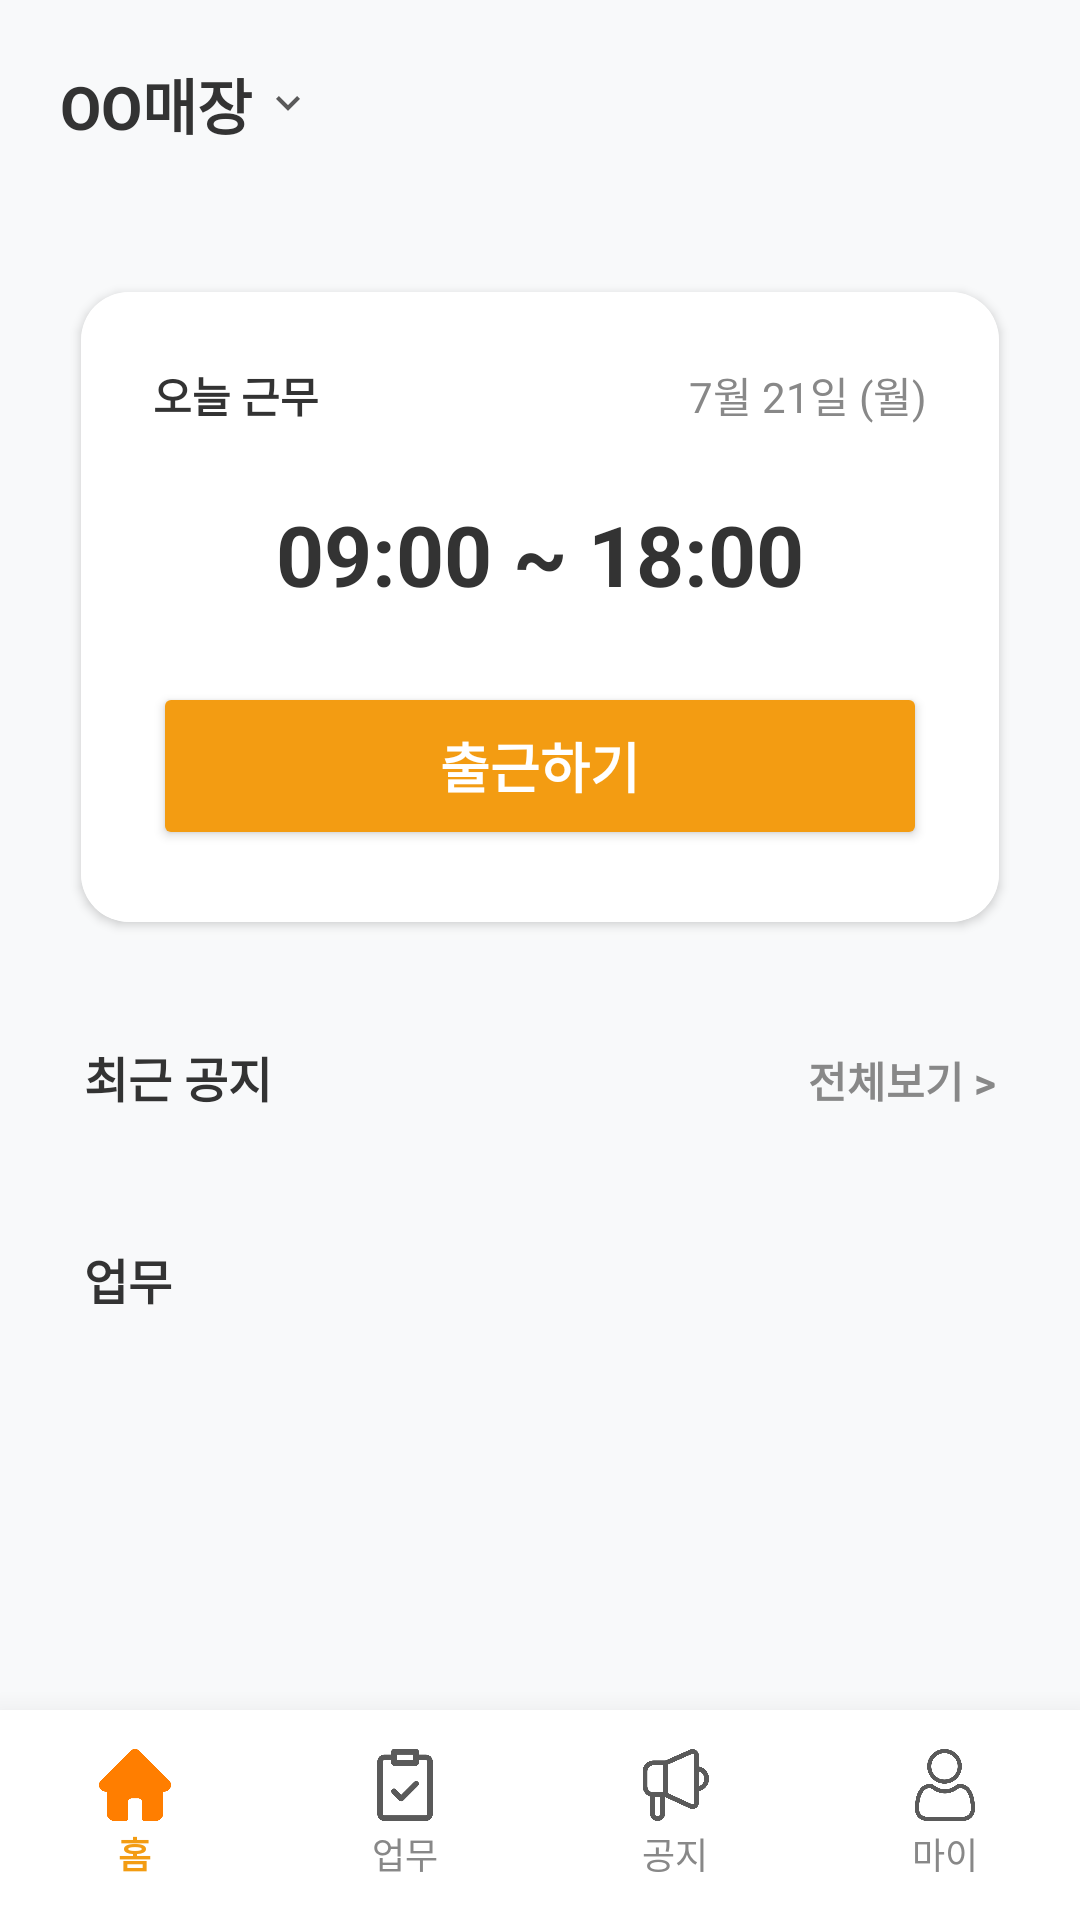

Icons on this 1080w x 1920h Android screen, each with the point to tap as (x=x, y=y):
arrow down: (x=288, y=103)
user: (x=945, y=1785)
